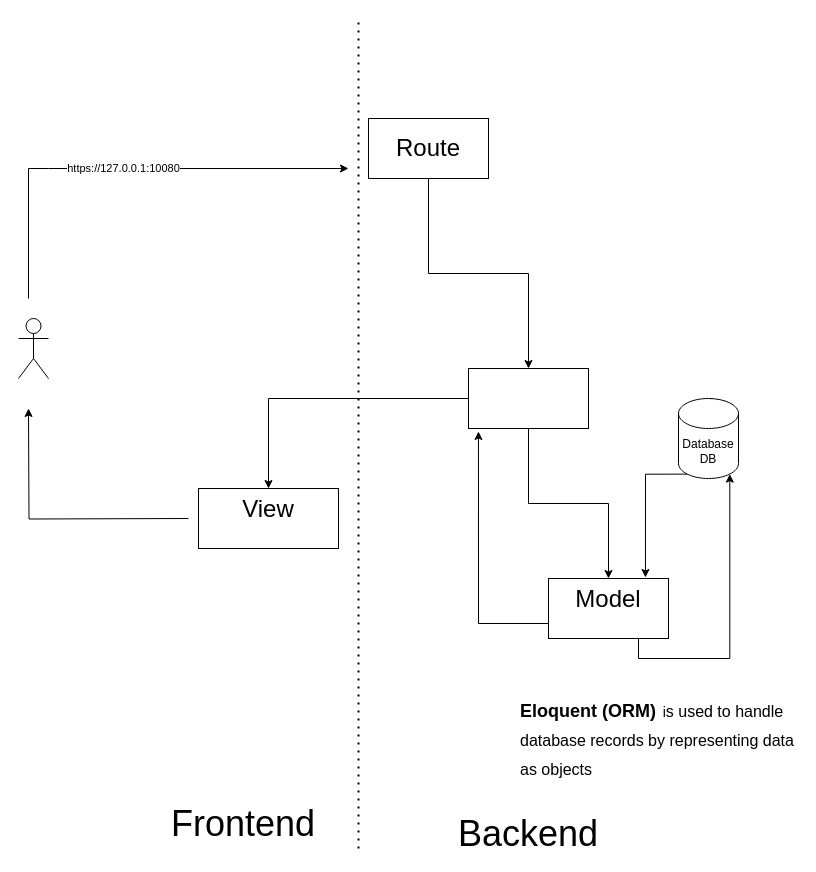
Some shapes in this 816 by 872 pixel diagram are drawn without their labels. The centre of each missing label's shape, as x and y in pixels:
"Controller" belongs at point (528, 398).
"USER" belongs at point (33, 348).
